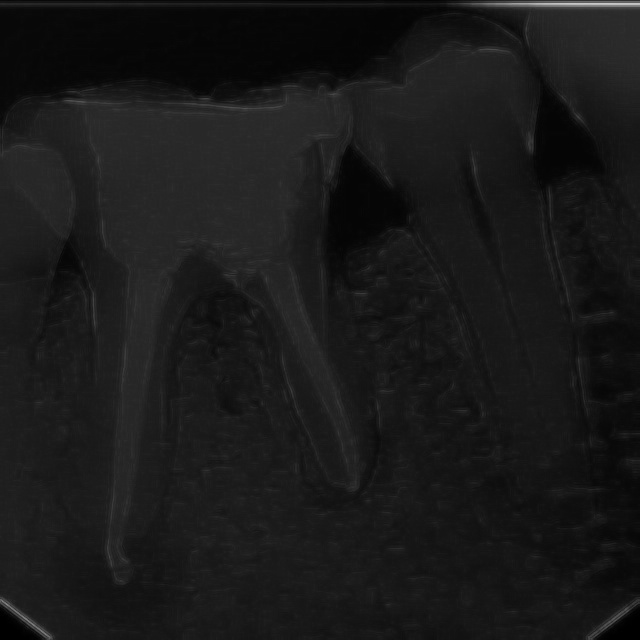Class 0- No endodontic treatment: (3, 38, 440, 603)
cavity: (336, 24, 634, 586)
